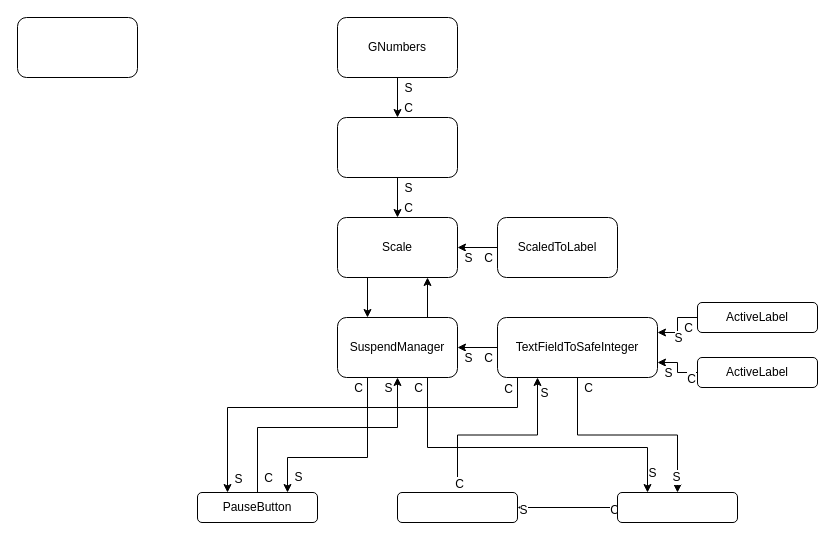
Image size: 835x540. Some labels were removed from this diagram. Here are the shapes that lost their labels. From the top down, the box of each, then its label:
(16, 16, 138, 78): User Interface
(336, 116, 458, 178): Fixed Delay
(396, 492, 518, 522): KeyEventFilter
(616, 492, 738, 522): TextField
